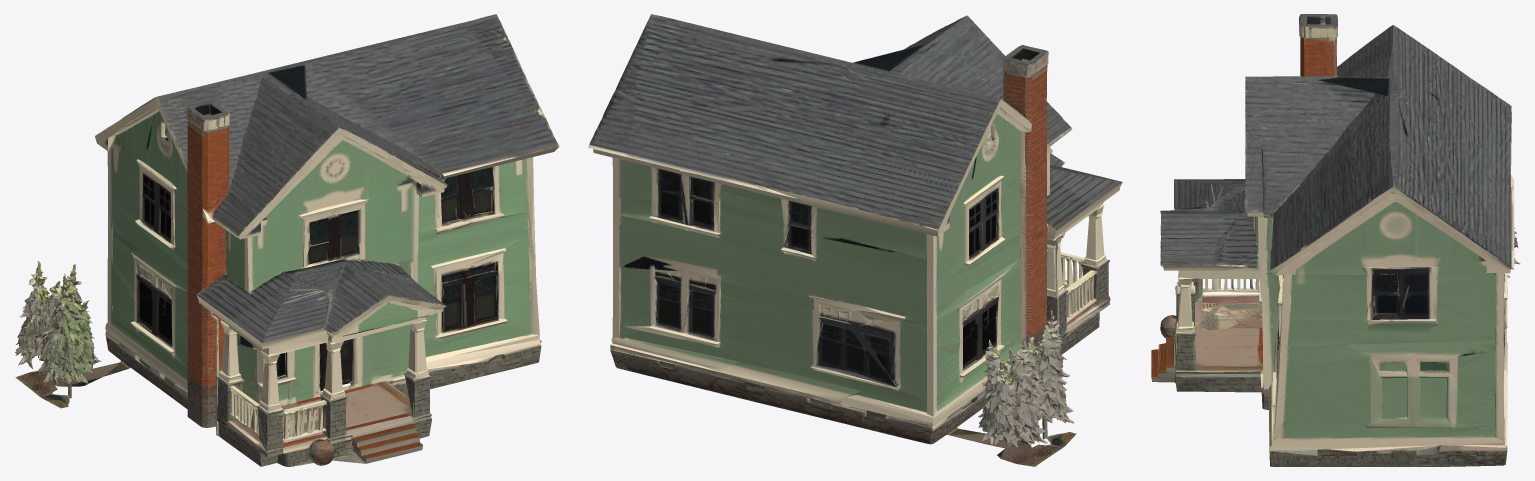
Rendered from suburb-house.glb.
The picture shows the model from 3 angles, left to right: view 1: azimuth 30°, elevation 25°; view 2: azimuth 150°, elevation 25°; view 3: azimuth 270°, elevation 25°; orthographic projection. The views are drawn at different scales.
Bounding box in the file's own units: 1.89 × 1.3 × 1.43.
1 material, 1 textured.
